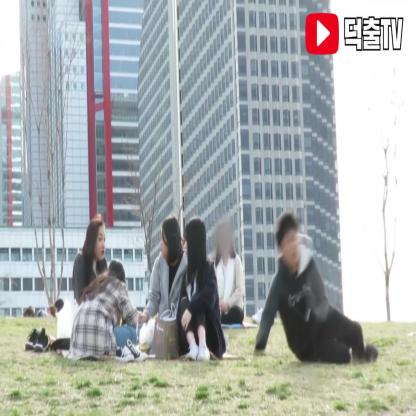Fall_Down: (252, 209, 380, 370)
